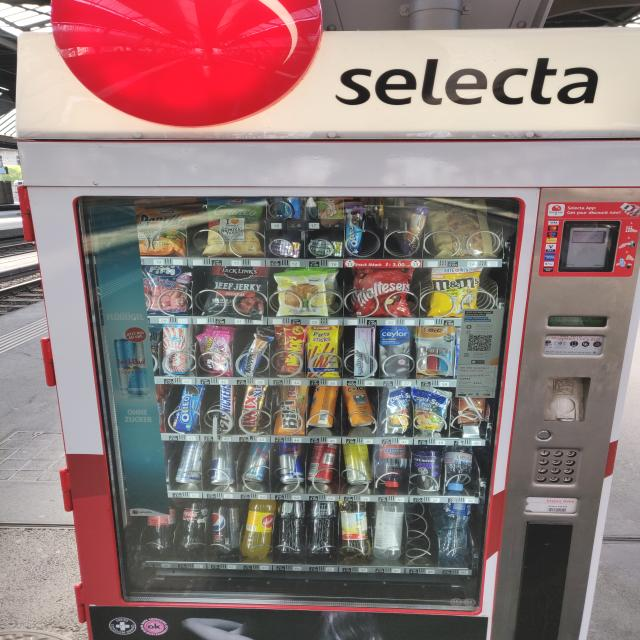bifi_roll__50__4251097402635: (274, 384, 308, 435)
c-swiss_dosenabisicetea__33__9120025930135: (333, 386, 378, 426), (302, 386, 342, 429)
caferoyal_classicmacchiato__33__7617014164487: (412, 445, 448, 495)
caprisun_multivitamin__20__4000177605004: (411, 388, 450, 433), (383, 387, 411, 435)
coke__dose_33__54491472: (304, 444, 344, 487)
coke__flasche_50__54491472: (142, 500, 178, 558)
coke_zero_flasche_50__5449000131836: (173, 501, 209, 555)
comella_schokodrink__33__7613100037253: (449, 388, 486, 424)
evian___50__3068320353500: (445, 446, 478, 492)
fini_galaxymix_packung_100_1_8410525150364: (144, 266, 191, 315)
fini_jellykisses_packung_80_1_8410525116704: (200, 328, 233, 377)
fuse_lemon__50__5449000235947: (306, 502, 337, 558)
fuse_lemon_dose_33__5449000235947: (344, 444, 374, 488)
fuse_peach__50__5449000236623: (276, 501, 310, 557)
henniez_blau__33__7610235000442: (438, 502, 473, 558)
henniez_rot__33__7610235000442: (376, 444, 408, 489)
jacklinks_beefjerkyorginal__25__4047751730219: (202, 266, 272, 320)
jlbrichard_gauffre__90__5410495002000: (430, 198, 501, 260)
kagi_specialedition__50__7610046000259: (162, 324, 191, 379)
knoppers_riegel____4035800488808: (238, 333, 268, 379)
lorenz_nicnacs__40__4018077798818: (277, 326, 309, 377)
malburner_partysticks__40__7610200279682: (309, 324, 343, 378)
maltesers___100__5000159023061: (356, 270, 413, 317)
mnms_gelb__45__40111445: (430, 265, 485, 320)
oreo___66__84100733: (171, 387, 205, 432)
pepsi_max__50__4060800105943: (208, 500, 242, 558)
ramseier_schorle__50__7610057012456: (339, 498, 369, 558)
redbull___33__90162909: (275, 443, 309, 485), (172, 442, 202, 489), (207, 444, 237, 486)
redbull_light__33__90162800: (242, 441, 272, 482)
sinalco_orange__50__4018715000112: (241, 501, 278, 559)
snickers___50__5000159461122: (217, 382, 240, 433)
stimorol_spearmint_riegel_14_1_0000000000005: (306, 241, 344, 258)
stimorol_wildcherry_riegel_14_1_57060330: (270, 238, 305, 256)
twix___50__5000159459228: (242, 384, 271, 435)
vitaminwell_reload__50__7350042716388: (370, 501, 408, 561)
zweifel_graneochilli__100__7610095184009: (201, 195, 264, 258)
zweifel_paprika__90__7610095013002: (132, 203, 192, 258)
